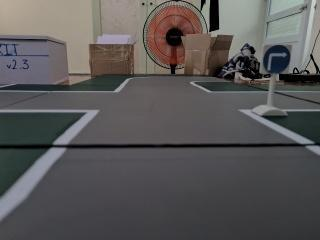right: (262, 41, 296, 80)
